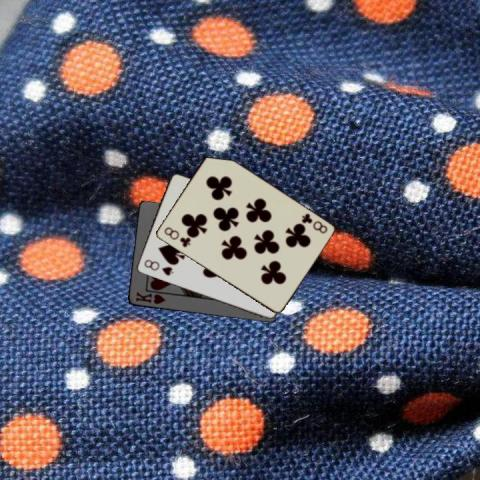8c: (298, 210, 329, 235), (161, 224, 191, 249)
8s: (140, 257, 174, 277)
Kh: (132, 289, 166, 305)
